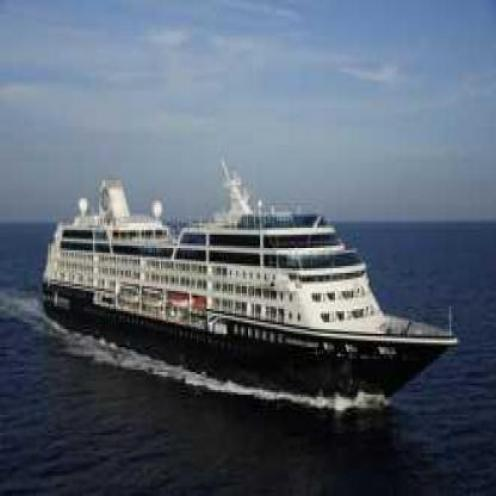Ship: (35, 197, 464, 407)
